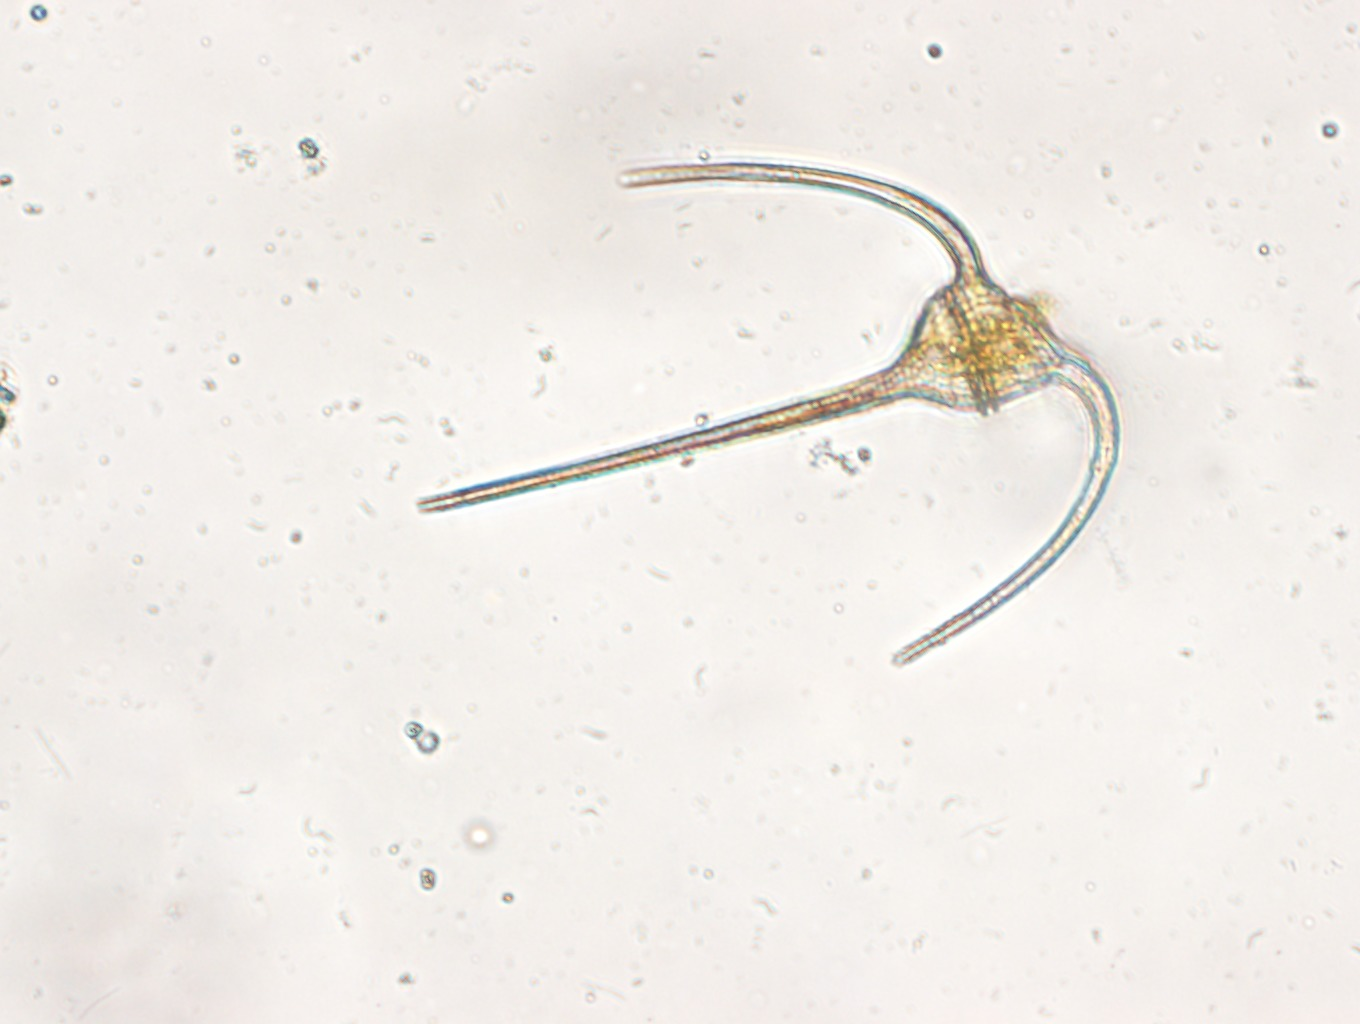ceratium trichoceros: (414, 157, 1126, 675)
